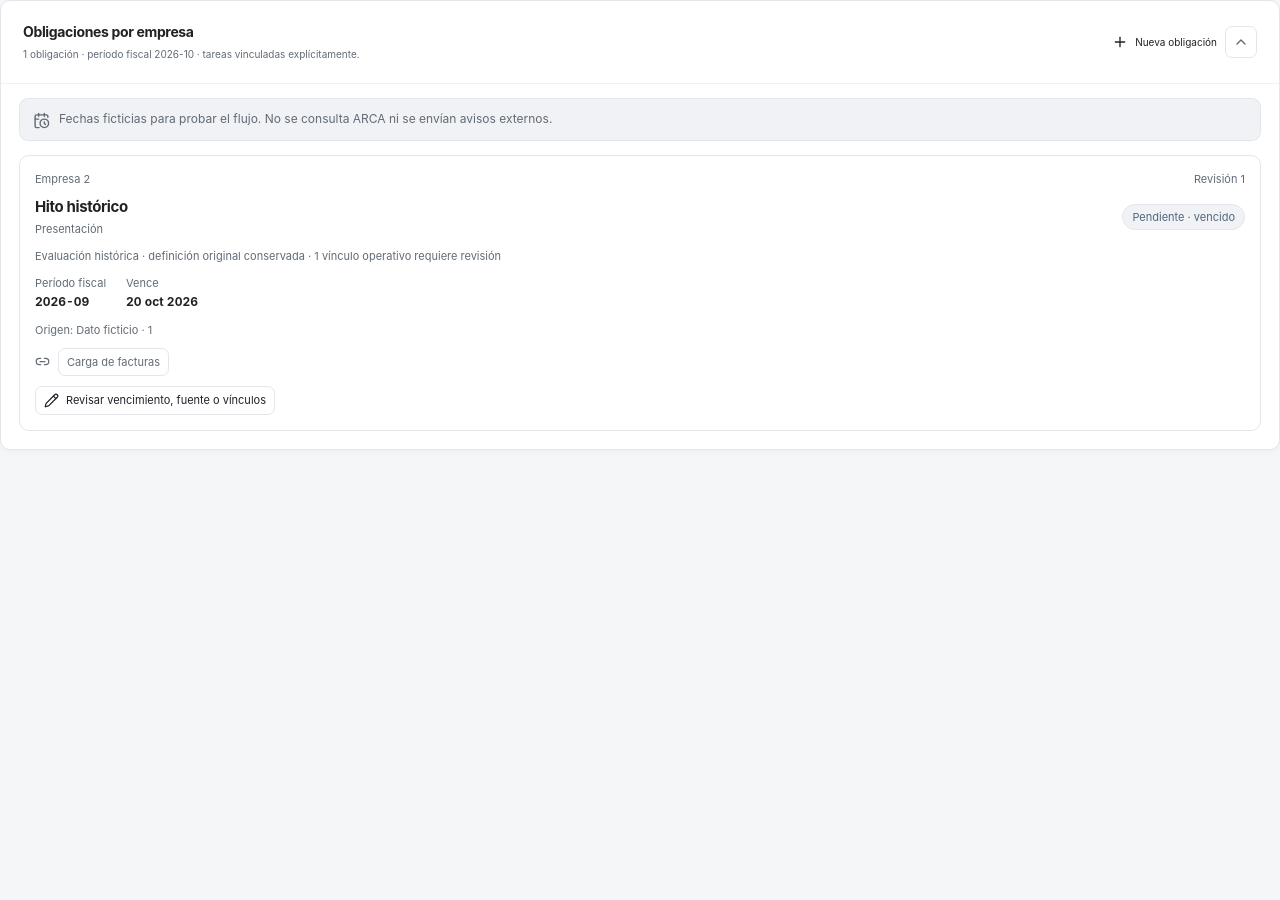
interfaz de obligaciones del laboratorio › señala y conserva el vínculo operativo de un hito histórico
The width and height of the screenshot is (1280, 900).
Click the button "Revisar vencimiento, fuente o vínculos": (155, 400) [35,386,275,415]
(page scrolled)
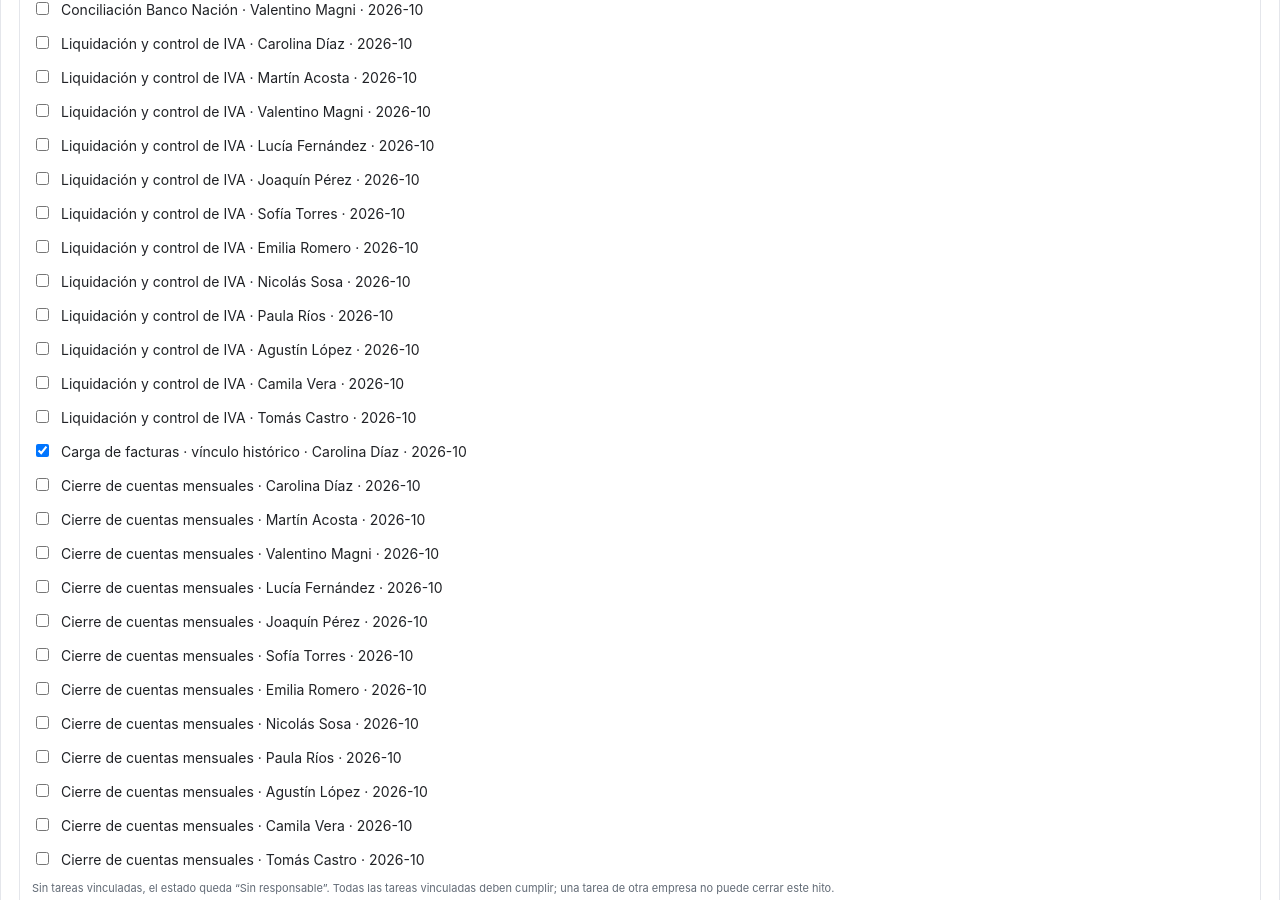
expect the label that starts with "Carga de facturas" is shown: met, box [36,442,467,460]
